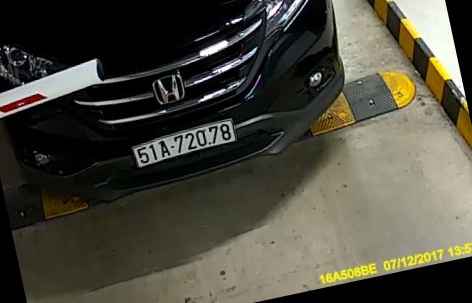plate: (130, 116, 238, 168)
